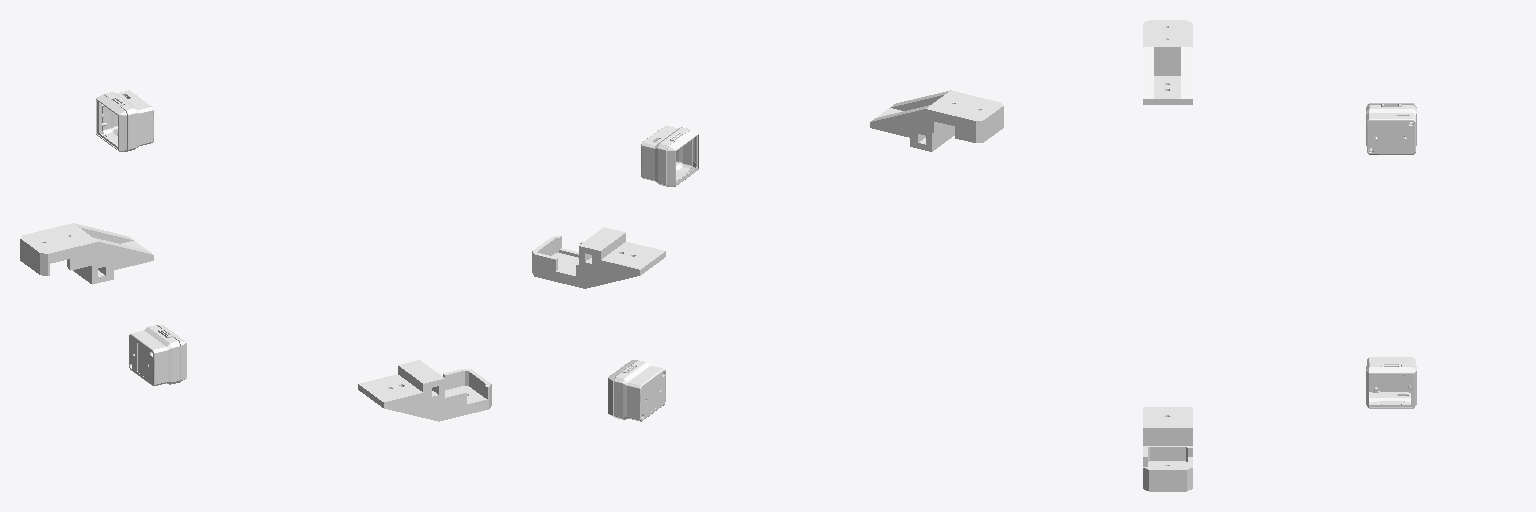
robot.urdf — ur5:
<?xml version="1.0" ?>
<!-- =================================================================================== -->
<!-- |    This document was autogenerated by xacro from ur5_robot.urdf.xacro           | -->
<!-- |    EDITING THIS FILE BY HAND IS NOT RECOMMENDED                                 | -->
<!-- =================================================================================== -->
<robot name="ur5" xmlns:xacro="http://ros.org/wiki/xacro">
  <!-- measured from model -->
  <!--property name="shoulder_height" value="0.089159" /-->
  <!--property name="shoulder_offset" value="0.13585" /-->
  <!-- shoulder_offset - elbow_offset + wrist_1_length = 0.10915 -->
  <!--property name="upper_arm_length" value="0.42500" /-->
  <!--property name="elbow_offset" value="0.1197" /-->
  <!-- CAD measured -->
  <!--property name="forearm_length" value="0.39225" /-->
  <!--property name="wrist_1_length" value="0.093" /-->
  <!-- CAD measured -->
  <!--property name="wrist_2_length" value="0.09465" /-->
  <!-- In CAD this distance is 0.930, but in the spec it is 0.09465 -->
  <!--property name="wrist_3_length" value="0.0823" /-->
  <!-- manually measured -->
  <!-- Arm Links -->
  <link name="base_link">
    <visual name="base_link_visual">
      <geometry>
        <mesh filename="meshes/ur5/visual/base.dae"/>
      </geometry>
    </visual>
    <collision name="base_link_collision">
      <geometry>
        <mesh filename="meshes/ur5/collision/base.stl"/>
      </geometry>
    </collision>
  </link>

  <link name="shoulder_link">
    <visual name="shoulder_link_visual">
      <geometry>
        <mesh filename="meshes/ur5/visual/shoulder.dae"/>
      </geometry>
    </visual>
    <collision name="shoulder_link_collision">
      <geometry>
        <mesh filename="meshes/ur5/collision/shoulder.stl"/>
      </geometry>
    </collision>
  </link>

  <link name="upper_arm_link">
    <visual name="upper_arm_link_visual">
      <geometry>
        <mesh filename="meshes/ur5/visual/upperarm.dae"/>
      </geometry>
    </visual>
    <collision name="upper_arm_link_collision">
      <geometry>
        <mesh filename="meshes/ur5/collision/upperarm.stl"/>
      </geometry>
    </collision>
  </link>

  <link name="forearm_link">
    <visual name="forearm_link_visual">
      <geometry>
        <mesh filename="meshes/ur5/visual/forearm.dae"/>
      </geometry>
    </visual>
    <collision name="forearm_link_collision">
      <geometry>
        <mesh filename="meshes/ur5/collision/forearm.stl"/>
      </geometry>
    </collision>
  </link>

  <link name="wrist_1_link">
    <visual name="wrist_1_link_visual">
      <geometry>
        <mesh filename="meshes/ur5/visual/wrist1.dae"/>
      </geometry>
    </visual>
    <collision name="wrist_1_link_collision">
      <geometry>
        <mesh filename="meshes/ur5/collision/wrist1.stl"/>
      </geometry>
    </collision>
  </link>

  <link name="wrist_2_link">
    <visual name="wrist_2_link_visual">
      <geometry>
        <mesh filename="meshes/ur5/visual/wrist2.dae"/>
      </geometry>
    </visual>
    <collision name="wrist_2_link_collision">
      <geometry>
        <mesh filename="meshes/ur5/collision/wrist2.stl"/>
      </geometry>
    </collision>
  </link>

  <link name="wrist_3_link">
    <visual name="wrist_3_link_visual">
      <geometry>
        <mesh filename="meshes/ur5/visual/wrist3.dae"/>
      </geometry>
    </visual>
    <collision name="wrist_3_link_collision">
      <geometry>
        <mesh filename="meshes/ur5/collision/wrist3.stl"/>
      </geometry>
    </collision>
  </link>


  <!-- Arm Joints -->
  <joint name="shoulder_pan_joint" type="revolute">
    <parent link="base_link"/>
    <child link="shoulder_link"/>
    <origin xyz="0 0 0.089159" rpy="0 0 0"/>
    <axis xyz="0 0 1"/>
    <limit lower="-6.28319" upper="6.28319" effort="150.0" velocity="3.15"/>
  </joint>

  <joint name="shoulder_lift_joint" type="revolute">
    <parent link="shoulder_link"/>
    <child link="upper_arm_link"/>
    <origin xyz="0 0.13585 0" rpy="0 0 0"/>
    <axis xyz="0 1 0"/>
    <limit lower="-6.28319" upper="6.28319" effort="150.0" velocity="3.15"/>
  </joint>

  <joint name="elbow_joint" type="revolute">
    <parent link="upper_arm_link"/>
    <child link="forearm_link"/>
    <origin xyz="0 -0.1197 0.425" rpy="0 0 0"/>
    <axis xyz="0 1 0"/>
    <limit lower="-6.28319" upper="6.28319" effort="150.0" velocity="3.15"/>
  </joint>

  <joint name="wrist_1_joint" type="revolute">
    <parent link="forearm_link"/>
    <child link="wrist_1_link"/>
    <origin xyz="0 0 0.39225" rpy="0 0 0"/>
    <axis xyz="0 1 0"/>
    <limit lower="-6.28319" upper="6.28319" effort="28.0" velocity="3.2"/>
  </joint>

  <joint name="wrist_2_joint" type="revolute">
    <parent link="wrist_1_link"/>
    <child link="wrist_2_link"/>
    <origin xyz="0 0.093 0" rpy="0 0 0"/>
    <axis xyz="0 0 1"/>
    <limit lower="-6.28319" upper="6.28319" effort="28.0" velocity="3.2"/>
  </joint>

  <joint name="wrist_3_joint" type="revolute">
    <parent link="wrist_2_link"/>
    <child link="wrist_3_link"/>
    <origin xyz="0 0 0.09465" rpy="0 0 0"/>
    <axis xyz="0 1 0"/>
    <limit lower="-6.28319" upper="6.28319" effort="28.0" velocity="3.2"/>
  </joint>


  <!-- Arm-Hand Fixed Joint -->

  <joint name="ee_fixed_joint" type="fixed"> 
    <parent link="wrist_3_link"/>
    <child link="ee_link"/>
    <axis xyz="0 0 1"/>
    <origin rpy="0 0 3.141592653589793" xyz="0.0 0.0823 0.0"/> 
  </joint>

  <link name="ee_link">
    <inertial>
      <origin xyz="8.625E-08 -4.6583E-06 0.03145" rpy="0 0 0" />
      <mass value="0.22652" />
      <inertia ixx="0.00020005" ixy="-4.2442E-10" ixz="-2.9069E-10" iyy="0.00017832" iyz="-3.4402E-08" izz="0.00013478" />
    </inertial>
    <visual>
      <origin xyz="0 0 0" rpy="0 0 0" />
      <geometry>
        <mesh filename="meshes/robotiq_2f_140/visual/robotiq_arg2f_base_link.stl" />
      </geometry>
      <material name="">
        <color rgba="0.9 0.1 0.1 1" />
      </material>
    </visual>
    <collision>
      <origin xyz="0.0 0.0 0.0" rpy="1.57079632678995 0 0" />
      <geometry>
        <mesh filename="meshes/robotiq_2f_140/collision/robotiq_arg2f_base_link.stl" />
      </geometry>
    </collision>
  </link>

  <link name="left_inner_knuckle">
    <inertial>
      <origin xyz="0.000123011831763771 0.0507850843201817 0.00103968640075166" rpy="0 0 0" />
      <mass value="0.0271177346495152" />
      <inertia
          ixx="2.61910379223783E-05"
          ixy="-2.43616858946494E-07"
          ixz="-6.37789906117123E-09"
          iyy="2.8270243746167E-06"
          iyz="-5.37200748039765E-07"
          izz="2.83695868220296E-05" />
    </inertial>
    <visual>
      <origin xyz="0 0 0" rpy="0 0 0" />
      <geometry>
        <mesh filename="meshes/robotiq_2f_140/visual/robotiq_arg2f_140_inner_knuckle.stl" />
      </geometry>
      <material name="">
        <color rgba="0.1 0.1 0.1 1" />
      </material>
    </visual>
    <collision>
      <origin xyz="0 0 -0.025" rpy="1.57079632678995 0 0" />
      <geometry>
        <mesh filename="meshes/robotiq_2f_140/collision/robotiq_arg2f_140_inner_knuckle.stl" />
      </geometry>
    </collision>
  </link> 

  <link name="right_inner_knuckle">
    <inertial>
      <origin xyz="0.000123011831763771 0.0507850843201817 0.00103968640075166" rpy="0 0 0" />
      <mass value="0.0271177346495152" />
      <inertia
          ixx="2.61910379223783E-05"
          ixy="-2.43616858946494E-07"
          ixz="-6.37789906117123E-09"
          iyy="2.8270243746167E-06"
          iyz="-5.37200748039765E-07"
          izz="2.83695868220296E-05" />
    </inertial>
    <visual>
      <origin xyz="0 0 0" rpy="0 0 0" />
      <geometry>
        <mesh filename="meshes/robotiq_2f_140/visual/robotiq_arg2f_140_inner_knuckle.stl" />
      </geometry>
      <material name="">
        <color rgba="0.1 0.1 0.1 1" />
      </material>
    </visual>
    <collision>
      <origin xyz="0 0 -0.025" rpy="1.57079632678995 0 0" />
      <geometry>
        <mesh filename="meshes/robotiq_2f_140/collision/robotiq_arg2f_140_inner_knuckle.stl" />
      </geometry>
    </collision>
  </link>

  <joint name="left_inner_knuckle_joint" type="revolute">
    <origin xyz="0 -0.06142 -0.0127" rpy="2.2957963267948965 0 0" />
    <parent link="ee_link" />
    <child link="left_inner_knuckle" />
    <axis xyz="1 0 0" />
    <limit lower="-0.5757" upper="0.5757" velocity="2.0" effort="1000" />
    <mimic joint="finger_joint" multiplier="-1" offset="0" />
  </joint>

  <joint name="right_inner_knuckle_joint" type="revolute">
    <origin xyz="0 -0.06142 0.0127" rpy="-2.2957963267948965 3.141592653589793 -3.141592653589793" />
    <parent link="ee_link" />
    <child link="right_inner_knuckle" />
    <axis xyz="1 0 0" />
    <limit lower="-0.5757" upper="0.5757" velocity="2.0" effort="1000" />
    <mimic joint="finger_joint" multiplier="1" offset="0" />
  </joint> 

  <link name="left_outer_knuckle">
    <inertial>
      <origin xyz="-0.000200000000003065 0.0199435877845359 0.0292245259211331" rpy="0 0 0" />
      <mass value="0.00853198276973456" />
      <inertia
          ixx="2.89328108496468E-06"
          ixy="-1.57935047237397E-19"
          ixz="-1.93980378593255E-19"
          iyy="1.86719750325683E-06"
          iyz="-1.21858577871576E-06"
          izz="1.21905238907251E-06" />
    </inertial>
    <visual>
      <origin xyz="0 0 0" rpy="0 0 0" />
      <geometry>
        <mesh filename="meshes/robotiq_2f_140/visual/robotiq_arg2f_140_outer_knuckle.stl" />
      </geometry>
      <material name="">
        <color rgba="0.792156862745098 0.819607843137255 0.933333333333333 1" />
      </material>
    </visual>
    <collision>
      <origin xyz="0 0 0" rpy="1.57079632678995 0 0" />
      <geometry>
        <mesh filename="meshes/robotiq_2f_140/collision/robotiq_arg2f_140_outer_knuckle.stl" />
      </geometry>
    </collision>
  </link>

  <link name="right_outer_knuckle">
    <inertial>
      <origin xyz="-0.000200000000003065 0.0199435877845359 0.0292245259211331" rpy="0 0 0" />
      <mass value="0.00853198276973456" />
      <inertia
          ixx="2.89328108496468E-06"
          ixy="-1.57935047237397E-19"
          ixz="-1.93980378593255E-19"
          iyy="1.86719750325683E-06"
          iyz="-1.21858577871576E-06"
          izz="1.21905238907251E-06" />
    </inertial>
    <visual>
      <origin xyz="0 0 0" rpy="0 0 0" />
      <geometry>
        <mesh filename="meshes/robotiq_2f_140/visual/robotiq_arg2f_140_outer_knuckle.stl" />
      </geometry>
      <material name="">
        <color rgba="0.792156862745098 0.819607843137255 0.933333333333333 1" />
      </material>
    </visual>
    <collision>
      <origin xyz="0 0 0" rpy="1.57079632678995 0 0" />
      <geometry>
        <mesh filename="meshes/robotiq_2f_140/collision/robotiq_arg2f_140_outer_knuckle.stl" />
      </geometry>
    </collision>
  </link>

  <joint name="finger_joint" type="revolute">
    <origin xyz="0 -0.054905 -0.030601" rpy="2.2957963267948965 0 0" />
    <parent link="ee_link" />
    <child link="left_outer_knuckle" />
    <axis xyz="-1 0 0" />
    <limit lower="-0.725" upper="0.725" velocity="2.0" effort="1000" />
  </joint>

  <joint name="right_outer_knuckle_joint" type="revolute">
    <origin xyz="0 -0.054905 0.030601" rpy="-0.8457 0 -3.141592653589793" />
    <parent link="ee_link" />
    <child link="right_outer_knuckle" />
    <axis xyz="1 0 0" />
    <limit lower="-0.725" upper="0.725" velocity="2.0" effort="1000" />
    <mimic joint="finger_joint" multiplier="-1" offset="0" />
  </joint>

  <link name="left_outer_finger">
    <inertial>
      <origin xyz="0.00030115855001899 0.0373907951953854 -0.0208027427000385" rpy="0 0 0" />
      <mass value="0.022614240507152" />
      <inertia
          ixx="1.52518312458174E-05"
          ixy="9.76583423954399E-10"
          ixz="-5.43838577022588E-10"
          iyy="6.17694243867776E-06"
          iyz="6.78636130740228E-06"
          izz="1.16494917907219E-05" />
    </inertial>
    <visual>
      <origin xyz="0 0 0" rpy="0 0 0" />
      <geometry>
        <mesh filename="meshes/robotiq_2f_140/visual/robotiq_arg2f_140_outer_finger.stl" />
      </geometry>
      <material name="">
        <color rgba="0.1 0.1 0.1 1" />
      </material>
    </visual>
    <collision>
      <origin xyz="0 0 0" rpy="1.57079632678995 0 0" />
      <geometry>
        <mesh filename="meshes/robotiq_2f_140/collision/robotiq_arg2f_140_outer_finger.stl" />
      </geometry>
    </collision>
  </link>

  <link name="right_outer_finger">
    <inertial>
      <origin xyz="0.00030115855001899 0.0373907951953854 -0.0208027427000385" rpy="0 0 0" />
      <mass value="0.022614240507152" />
      <inertia
          ixx="1.52518312458174E-05"
          ixy="9.76583423954399E-10"
          ixz="-5.43838577022588E-10"
          iyy="6.17694243867776E-06"
          iyz="6.78636130740228E-06"
          izz="1.16494917907219E-05" />
    </inertial>
    <visual>
      <origin xyz="0 0 0" rpy="0 0 0" />
      <geometry>
        <mesh filename="meshes/robotiq_2f_140/visual/robotiq_arg2f_140_outer_finger.stl" />
      </geometry>
      <material name="">
        <color rgba="0.1 0.1 0.1 1" />
      </material>
    </visual>
    <collision>
      <origin xyz="0 0 0" rpy="1.57079632678995 0 0" />
      <geometry>
        <mesh filename="meshes/robotiq_2f_140/collision/robotiq_arg2f_140_outer_finger.stl" />
      </geometry>
    </collision>
  </link>

  <joint name="left_outer_finger_joint" type="fixed">
    <origin xyz="0 -0.0260018192872234 0.01821998610742" rpy="0 0 0" />
    <parent link="left_outer_knuckle" />
    <child link="left_outer_finger" />
    <axis xyz="1 0 0" />
  </joint>

  <joint name="right_outer_finger_joint" type="fixed">
    <origin xyz="0 -0.0260018192872234 0.01821998610742" rpy="0 0 0" />
    <parent link="right_outer_knuckle" />
    <child link="right_outer_finger" />
    <axis xyz="1 0 0" />
  </joint>

  <link name="left_inner_finger">
    <inertial>
      <origin xyz="0.000299999999999317 0.0160078233491243 -0.0136945669206257" rpy="0 0 0" />
      <mass value="0.0104003125914103" />
      <inertia
          ixx="2.71909453810972E-06"
          ixy="1.35402465472579E-21"
          ixz="-7.1817349065269E-22"
          iyy="7.69100314106116E-07"
          iyz="6.74715432769696E-07"
          izz="2.30315190420171E-06" />
    </inertial>
    <visual>
      <origin xyz="0 0 0" rpy="0 0 0" />
      <geometry>
        <mesh filename="meshes/robotiq_2f_140/visual/robotiq_arg2f_140_inner_finger.stl" />
      </geometry>
      <material name="">
        <color rgba="0.1 0.1 0.1 1" />
      </material>
    </visual>
    <collision>
      <origin xyz="0 0 0" rpy="1.57079632678995 0 0" />
      <geometry>
        <mesh filename="meshes/robotiq_2f_140/collision/robotiq_arg2f_140_inner_finger.stl" />
      </geometry>
    </collision>
  </link>

  <link name="right_inner_finger">
    <inertial>
      <origin xyz="0.000299999999999317 0.0160078233491243 -0.0136945669206257" rpy="0 0 0" />
      <mass value="0.0104003125914103" />
      <inertia
          ixx="2.71909453810972E-06"
          ixy="1.35402465472579E-21"
          ixz="-7.1817349065269E-22"
          iyy="7.69100314106116E-07"
          iyz="6.74715432769696E-07"
          izz="2.30315190420171E-06" />
    </inertial>
    <visual>
      <origin xyz="0 0 0" rpy="0 0 0" />
      <geometry>
        <mesh filename="meshes/robotiq_2f_140/visual/robotiq_arg2f_140_inner_finger.stl" />
      </geometry>
      <material name="">
        <color rgba="0.1 0.1 0.1 1" />
      </material>
    </visual>
    <collision>
      <origin xyz="0 0 0" rpy="1.57079632678995 0 0" />
      <geometry>
        <mesh filename="meshes/robotiq_2f_140/collision/robotiq_arg2f_140_inner_finger.stl" />
      </geometry>
    </collision>
  </link>

  <joint name="left_inner_finger_joint" type="revolute">
    <origin xyz="0 0.0282203446692936 0.0817554015893473" rpy="-0.725 0 0" />
    <parent link="left_outer_finger" />
    <child link="left_inner_finger" />
    <axis xyz="1 0 0" />
    <limit lower="-0.5757" upper="0.5757" velocity="2.0" effort="1000" />
    <mimic joint="finger_joint" multiplier="1" offset="0" />
  </joint>

  <joint name="right_inner_finger_joint" type="revolute">
    <origin xyz="0 0.0282203446692936 0.0817554015893473" rpy="-0.725 0 0" />
    <parent link="right_outer_finger" />
    <child link="right_inner_finger" />
    <axis xyz="1 0 0" />
    <limit lower="-0.5757" upper="0.5757" velocity="2.0" effort="1000" />
    <mimic joint="finger_joint" multiplier="1" offset="0" />
  </joint>

  <link
    name="left_gelsight_connector">
    <inertial>
      <origin
        xyz="-0.157663212592476 -0.000124171196531324 0.120438138444188"
        rpy="0 0 0" />
      <mass
        value="0.0221225285478857" />
      <inertia
        ixx="1.07229927214735E-05"
        ixy="-4.04103873091654E-21"
        ixz="2.15379317805456E-06"
        iyy="9.94855881736576E-06"
        iyz="6.62592000000011E-08"
        izz="3.68644003164057E-06" />
    </inertial>
    <visual>
      <origin
        xyz="0 0 0"
        rpy="0 0 0" />
      <geometry>
        <mesh
          filename="meshes/gelsight_robotiq_connector/visual/gelsight_robotiq.STL" />
      </geometry>
      <material
        name="">
        <color
          rgba="1 1 1 1" />
      </material>
    </visual>
    <collision>
      <origin
        xyz="0.0 0.0 0.0"
        rpy="1.5707963267899 0 0" />
      <geometry>
        <mesh       
          filename="meshes/gelsight_robotiq_connector/collision/gelsight_robotiq.STL" />
      </geometry>
    </collision>
  </link>

  <link
    name="right_gelsight_connector">
    <inertial>
      <origin
        xyz="-0.157663212592476 -0.000124171196531324 0.120438138444188"
        rpy="0 0 0" />
      <mass
        value="0.0221225285478857" />
      <inertia
        ixx="1.07229927214735E-05"
        ixy="-4.04103873091654E-21"
        ixz="2.15379317805456E-06"
        iyy="9.94855881736576E-06"
        iyz="6.62592000000011E-08"
        izz="3.68644003164057E-06" />
    </inertial>
    <visual>
      <origin
        xyz="0 0 0"
        rpy="0 0 0" />
      <geometry>
        <mesh
          filename="meshes/gelsight_robotiq_connector/visual/gelsight_robotiq.STL" />
      </geometry>
      <material
        name="">
        <color
          rgba="1 1 1 1" />
      </material>
    </visual>
    <collision>
      <origin
        xyz="0 0 0"
        rpy="1.5707963267899 0 0" />
      <geometry>
        <mesh
          filename="meshes/gelsight_robotiq_connector/collision/gelsight_robotiq.STL" />
      </geometry>
    </collision>
  </link>

  <joint name="left_gelsight_connector" type="fixed">
    <origin xyz="0 0.1768 -0.0745" rpy="-1.5707963267899 0 1.5707963267899" />
    <parent link="left_inner_finger" />
    <child link="left_gelsight_connector" />
    <axis xyz="0 0 1" />
  </joint>
  <joint name="right_gelsight_connector" type="fixed">
    <origin xyz="0 0.1768 -0.0745" rpy="-1.5707963267899 0 1.5707963267899" />
    <parent link="right_inner_finger" />
    <child link="right_gelsight_connector" />
    <axis xyz="0 0 1" />
  </joint>

  <link
    name="left_gelsight_mini">
    <inertial>
      <origin
        xyz="-0.109892156902594 0.041534939290952 0.150431592177723"
        rpy="0 0 0" />
      <mass
        value="0.00521824808646558" />
      <inertia
        ixx="7.98413040723359E-07"
        ixy="-4.47118903495661E-10"
        ixz="-7.80447946148685E-10"
        iyy="5.68310810488415E-07"
        iyz="7.93106143462849E-10"
        izz="4.0985124041434E-07" />
    </inertial>
    <visual>
      <origin
        xyz="0 0 0"
        rpy="0 0 0" />
      <geometry>
        <mesh
          filename="meshes/gelsight_mini/visual/base_link.STL" />
      </geometry>
      <material
        name="">
        <color
          rgba="1 1 1 1" />
      </material>
    </visual>
    <collision>
      <origin
        xyz="0 0 0"
        rpy="1.5707963267899 0 0" />
      <geometry>
        <mesh
          filename="meshes/gelsight_mini/collision/base_link.STL" />
      </geometry>
    </collision>
  </link>

  <link
    name="right_gelsight_mini">
    <inertial>
      <origin
        xyz="-0.109892156902594 0.041534939290952 0.150431592177723"
        rpy="0 0 0" />
      <mass
        value="0.00521824808646558" />
      <inertia
        ixx="7.98413040723359E-07"
        ixy="-4.47118903495661E-10"
        ixz="-7.80447946148685E-10"
        iyy="5.68310810488415E-07"
        iyz="7.93106143462849E-10"
        izz="4.0985124041434E-07" />
    </inertial>
    <visual>
      <origin
        xyz="0 0 0"
        rpy="0 0 0" />
      <geometry>
        <mesh
          filename="meshes/gelsight_mini/visual/base_link.STL" />
      </geometry>
      <material
        name="">
        <color
          rgba="1 1 1 1" />
      </material>
    </visual>
    <collision>
      <origin
        xyz="0 0 0"
        rpy="1.5707963267899 0 0" />
      <geometry>
        <mesh
          filename="meshes/gelsight_mini/collision/base_link.STL" />
      </geometry>
    </collision>
  </link>

    <link name="left_box">   
    <!-- <visual>
      <origin xyz="0 0 0.002" rpy="0 0 0"/>
      <geometry>
          <box size="0.03 0.025 0.004"/>
      </geometry>
    </visual>  -->

    <collision>
        <origin xyz="0 0 0.00" rpy="0 0 0"/>
        <geometry>
          <box size="0.026 0.022 0.013"/>
        </geometry>
    </collision>
  </link>

  <link name="right_box">   
    <!-- <visual>
      <origin xyz="0 0 0.002" rpy="0 0 0"/>
      <geometry>
          <box size="0.03 0.025 0.004"/>
      </geometry>
    </visual>  -->

    <collision>
        <origin xyz="0 0 0.00" rpy="0 0 0"/>
        <geometry>
          <box size="0.026 0.022 0.013"/>
        </geometry>
    </collision>
  </link>


	<joint name = "left_attach" type = "fixed">
		<origin xyz = "0.0 -0.02 0.0 " rpy = "1.5707963267948966 0 0"/>
		<parent link = "left_gelsight_mini"/>
		<child link = "left_box"/>  
	</joint>

	<joint name = "right_attach" type = "fixed">
		<origin xyz = "0.0 -0.02 0.0" rpy = "1.5707963267948966 0 0"/>
		<parent link = "right_gelsight_mini"/>
		<child link = "right_box"/>
	</joint>


  <joint name="left_gelsight" type="fixed">
    <origin xyz="-0.1635 -0.14  -0.0" rpy="0 0 1.5707963267948966" />
    <parent link="left_gelsight_connector" />
    <child link="left_gelsight_mini" />
    <axis xyz="0 0 1" />
  </joint>

  <joint name="right_gelsight" type="fixed">
    <origin xyz="-0.1635 -0.14  -0.0" rpy="0 0 1.5707963267948966" />
    <parent link="right_gelsight_connector" />
    <child link="right_gelsight_mini" />
    <axis xyz="0 0 1" />
  </joint>

</robot>

--- Facts derived from the render (not from the file) ---
The picture shows the robot from 3 angles, left to right: view 1: azimuth 30°, elevation 25°; view 2: azimuth 150°, elevation 25°; view 3: azimuth 270°, elevation 25°; orthographic projection.
Robot: ur5 — 22 links, 21 joints (12 revolute, 9 fixed); root link base_link; default pose: every joint at zero.
Visible links, largest first — view 1: left_gelsight_connector, right_gelsight_connector, right_gelsight_mini, left_gelsight_mini; view 2: right_gelsight_connector, left_gelsight_connector, left_gelsight_mini, right_gelsight_mini; view 3: left_gelsight_connector, right_gelsight_connector, left_gelsight_mini, right_gelsight_mini.
Link boxes in pixels (x1,y1,x2,y2): left_gelsight_connector: (358,360,491,421); right_gelsight_connector: (20,223,153,284); right_gelsight_mini: (96,90,153,151); left_gelsight_mini: (129,325,186,385); right_gelsight_connector: (870,90,1003,151); left_gelsight_connector: (532,227,665,288); left_gelsight_mini: (608,360,665,421); right_gelsight_mini: (641,126,698,186); left_gelsight_connector: (1143,407,1192,491); right_gelsight_connector: (1143,20,1192,104); left_gelsight_mini: (1366,357,1416,408); right_gelsight_mini: (1366,103,1416,154).
Bounding box of the posed robot: 0.3177 × 0.1714 × 0.1928 m (x, y, z).
Meshes: 14 distinct files referenced, 4 mesh visuals loaded (2 binary STL); not drawn: 16 (reference not matched to a file when rendering).